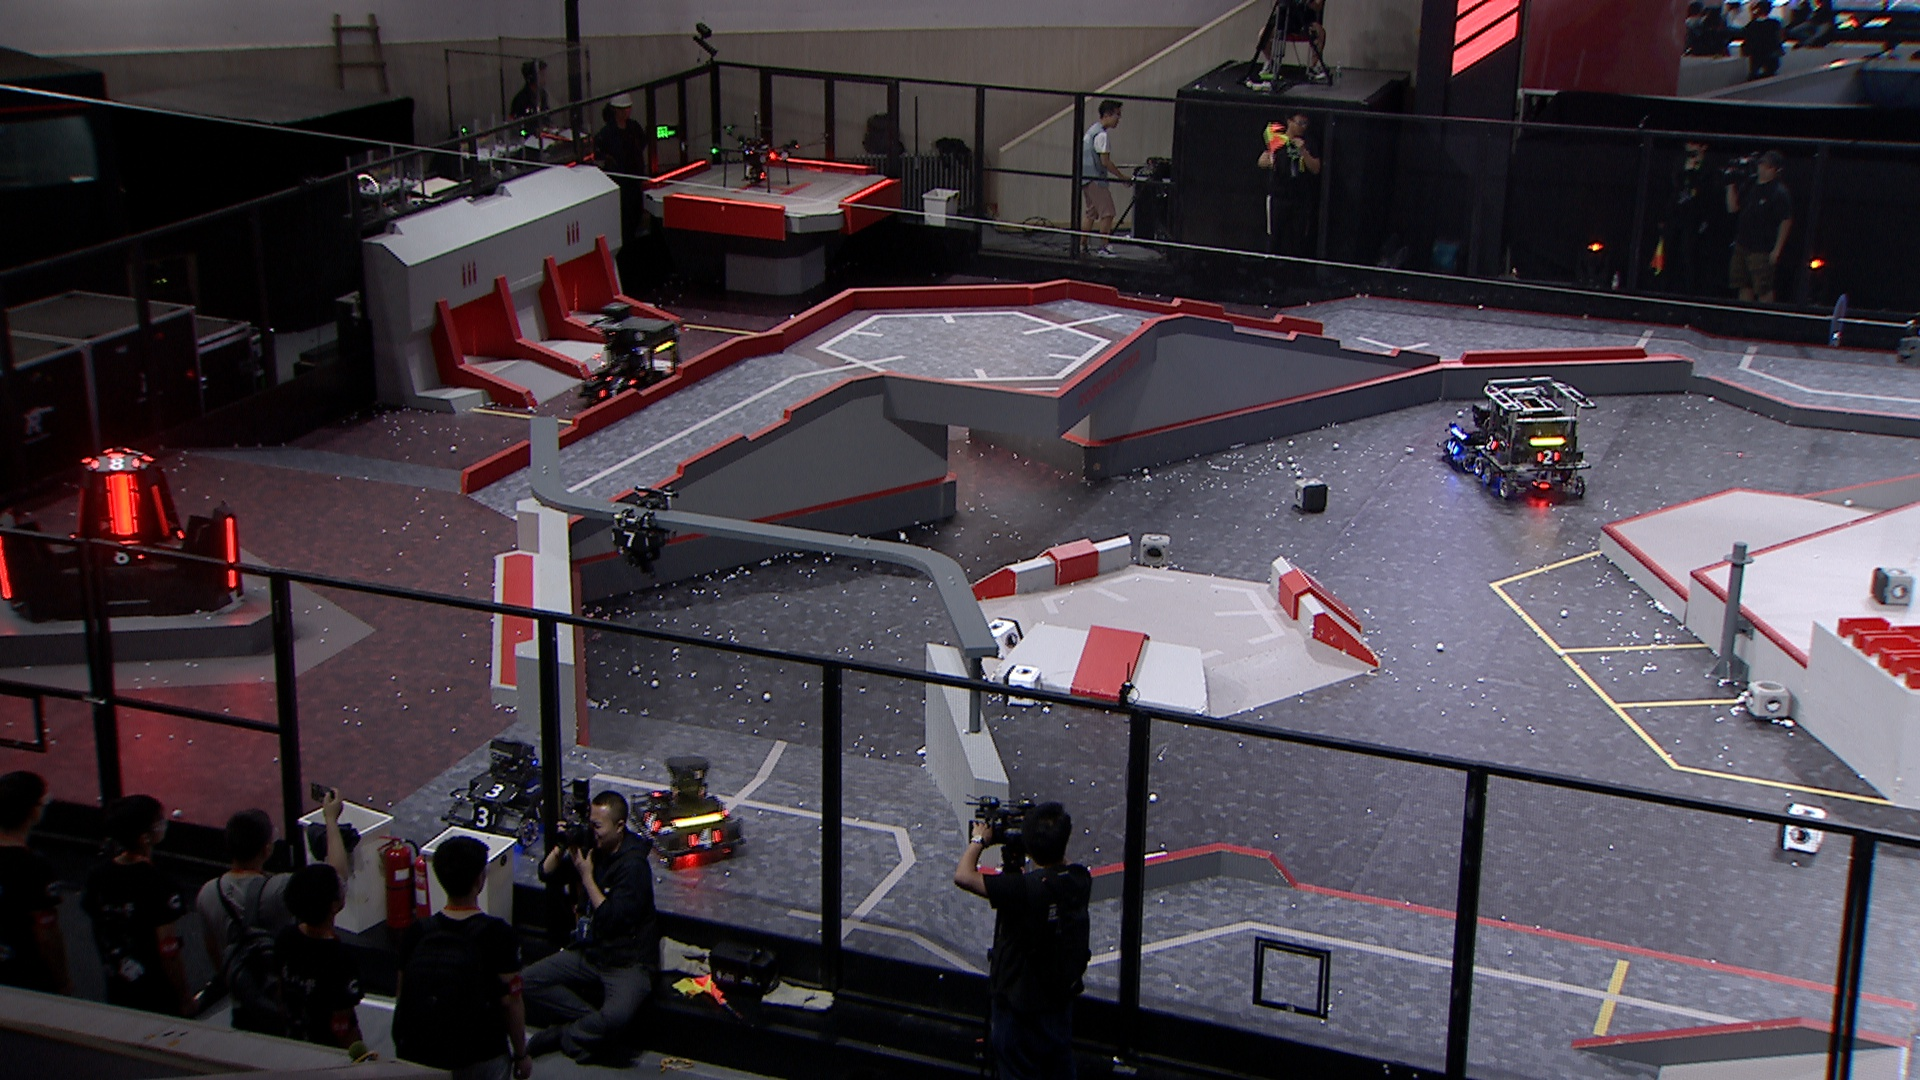armor: (103, 471, 141, 537), (222, 516, 243, 591), (148, 483, 171, 535), (471, 779, 522, 800), (684, 825, 723, 853), (609, 531, 654, 553), (465, 803, 498, 831), (87, 455, 141, 471), (73, 485, 87, 543), (102, 547, 144, 564), (641, 808, 662, 835), (1534, 448, 1564, 465), (605, 373, 640, 386), (1480, 434, 1501, 454), (599, 386, 626, 401), (1443, 439, 1462, 456)
car: (1474, 375, 1600, 502), (439, 735, 574, 845), (626, 750, 746, 865), (578, 305, 688, 415), (1437, 400, 1524, 472)
watcher: (608, 485, 679, 579)
